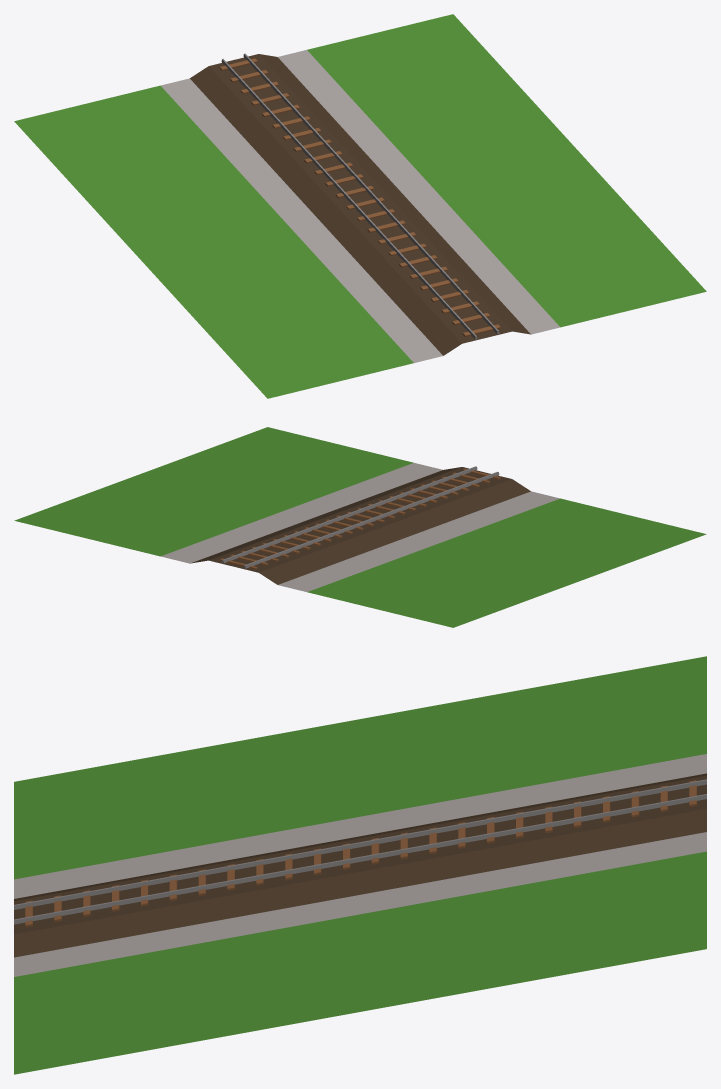
Rendered from tiles-nb_tile-rail-hill-nb.fbx.
The picture shows the model from 3 angles, top to bottom: view 1: azimuth 30°, elevation 25°; view 2: azimuth 150°, elevation 25°; view 3: azimuth 270°, elevation 25°; orthographic projection. The views are drawn at different scales.
Visible parts, largest first — view 1: tiles_nb_tile_rail_hill_nb; view 2: tiles_nb_tile_rail_hill_nb; view 3: tiles_nb_tile_rail_hill_nb.
Part boxes in pixels (box(x1,y1,x2,y2)): tiles_nb_tile_rail_hill_nb: box(14, 14, 706, 398); tiles_nb_tile_rail_hill_nb: box(14, 427, 706, 627); tiles_nb_tile_rail_hill_nb: box(14, 656, 706, 1074).
Size of the model in its own units: 200 by 44.97 by 200.
